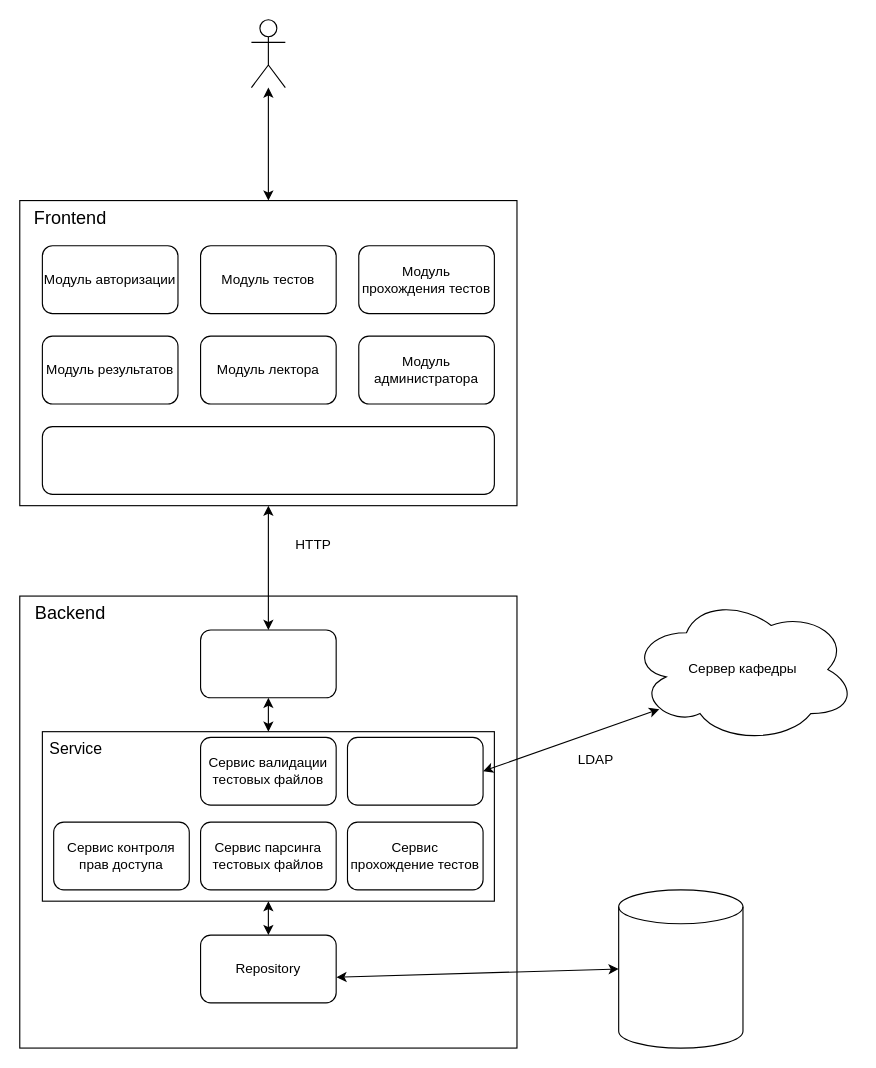
This 876x1068 diagram has some shape labels left out. The shapes that lost their labels are listed below. From the top down, each one's centre as x and y in pixels, then its label:
[267,53]: Пользователь
[267,459]: Общий компонентый слой
[267,663]: Handler
[414,770]: Сервис взаимодействия с сервером кафедры
[680,968]: База данных
